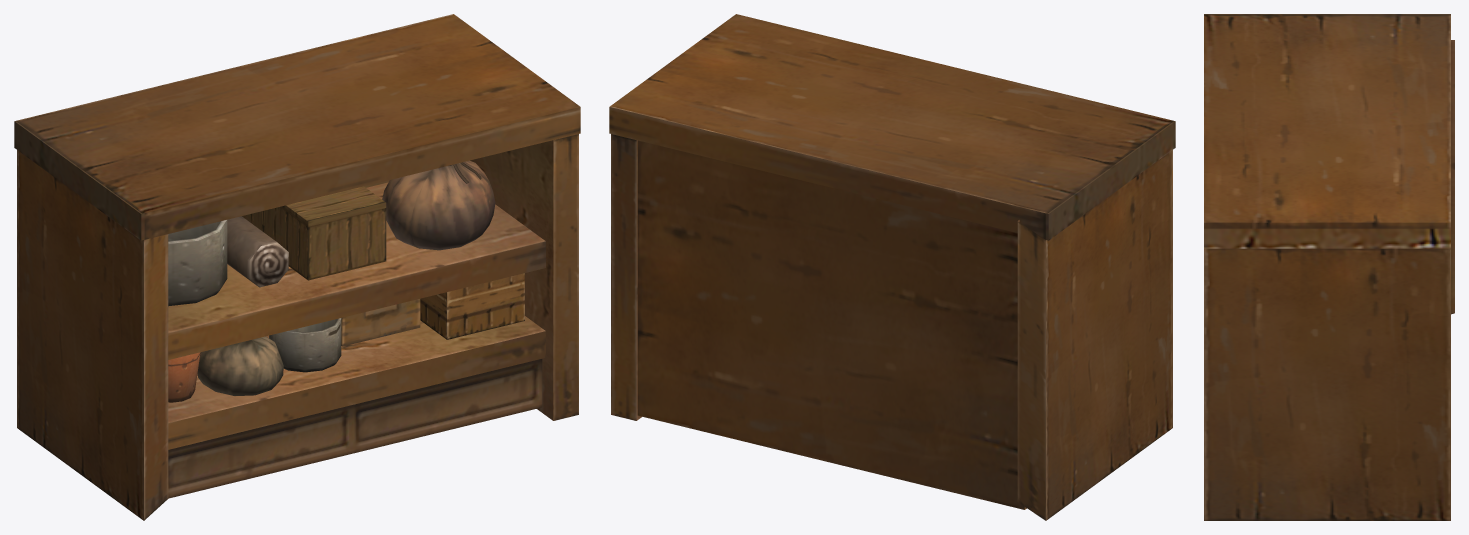
File: sb_obj_indoor004_LowShelf01.fbx
The picture shows the model from 3 angles, left to right: view 1: azimuth 30°, elevation 25°; view 2: azimuth 150°, elevation 25°; view 3: azimuth 270°, elevation 25°; orthographic projection. The views are drawn at different scales.
Visible parts, largest first — view 1: lowshelf; view 2: lowshelf; view 3: lowshelf.
Boxes of the visible parts, bbox=[...] form: lowshelf: bbox=[14, 14, 580, 520]; lowshelf: bbox=[609, 14, 1175, 520]; lowshelf: bbox=[1204, 14, 1454, 520].
Bounding box in the file's own units: 0.8 × 0.5352 × 0.4065.
